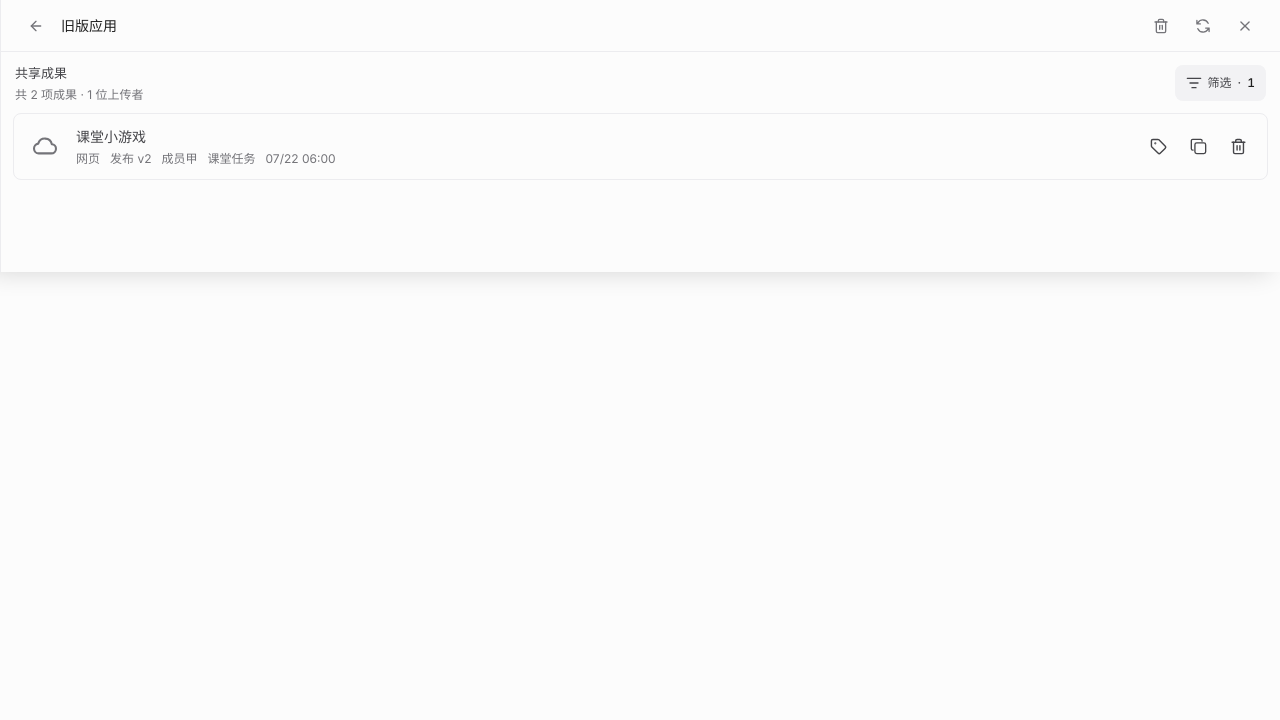
Test: CloudArtifactsPanel › supports keyboard controls and Escape without closing the cloud panel
This screenshot has width=1280, height=720.
Click the button with class "cloud-artifact-filter-trigger" at (1220, 83), box left=1175, top=65, right=1266, bottom=101
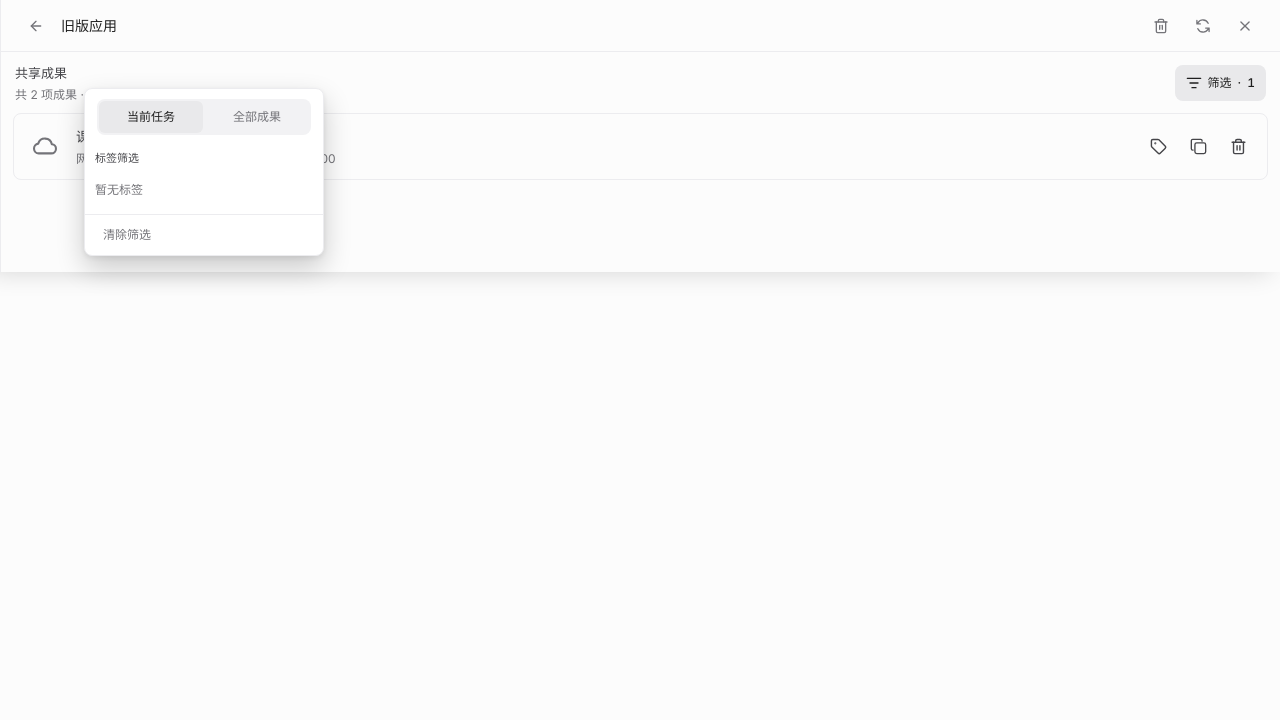
Click the radio button labelled "全部成果" at (257, 116), box left=233, top=109, right=281, bottom=124
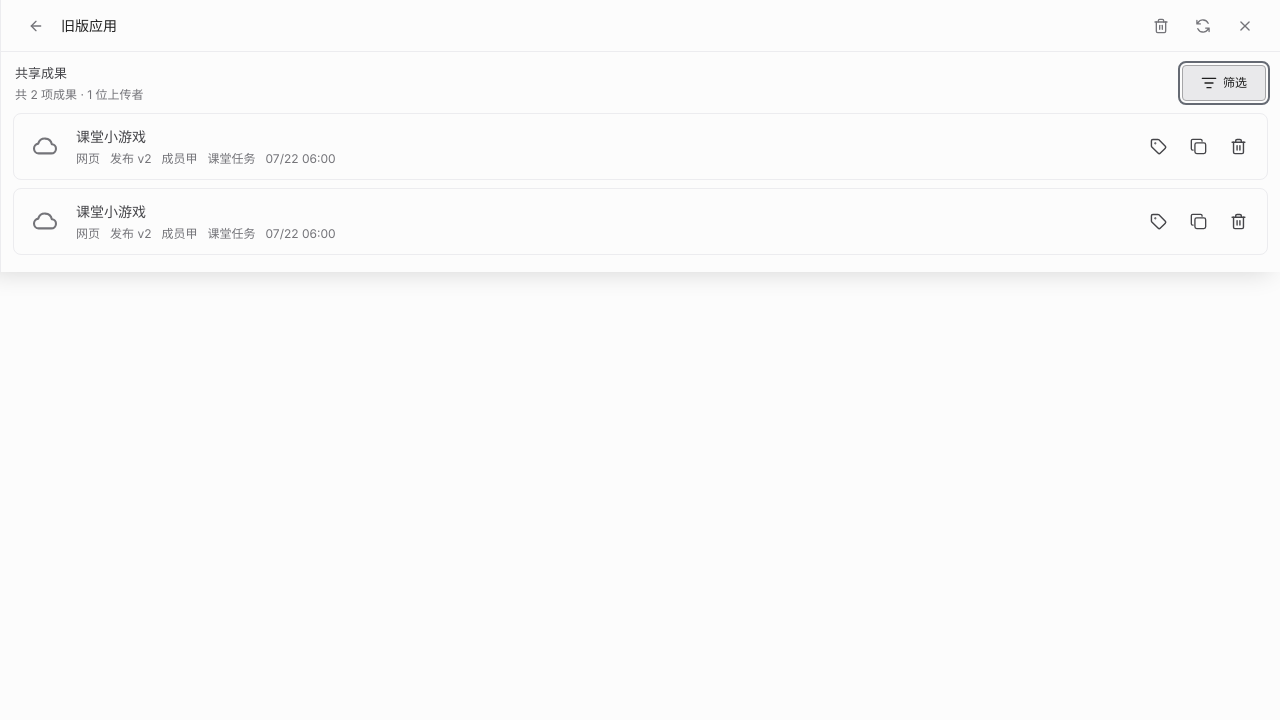
Expected: the element with class "cloud-artifacts-panel" is shown, left=0, top=0, right=1279, bottom=272
Expected: the button with class "cloud-artifact-filter-trigger" is collapsed, left=1182, top=65, right=1266, bottom=101
